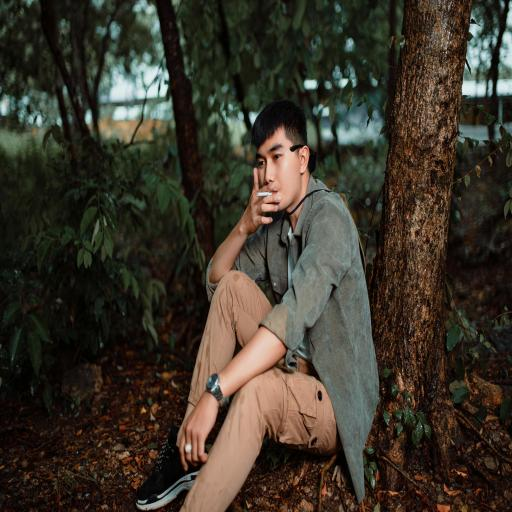terdeteksi merokok: (247, 140, 287, 222)
